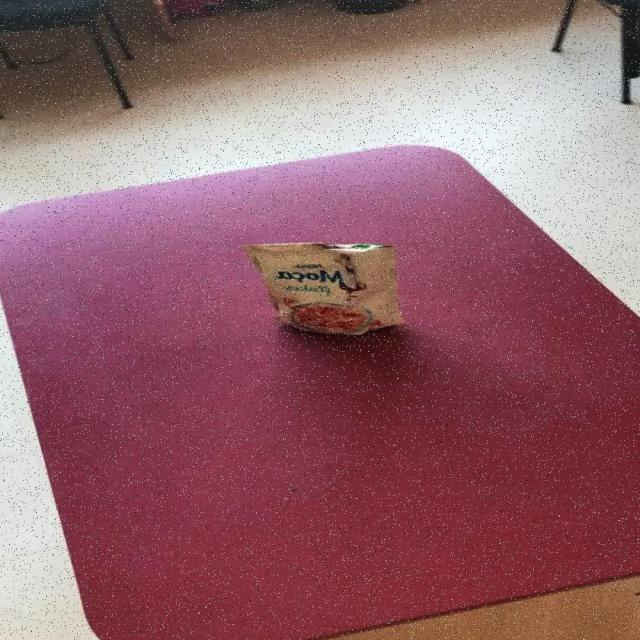CornFlakes: (244, 240, 407, 336)
